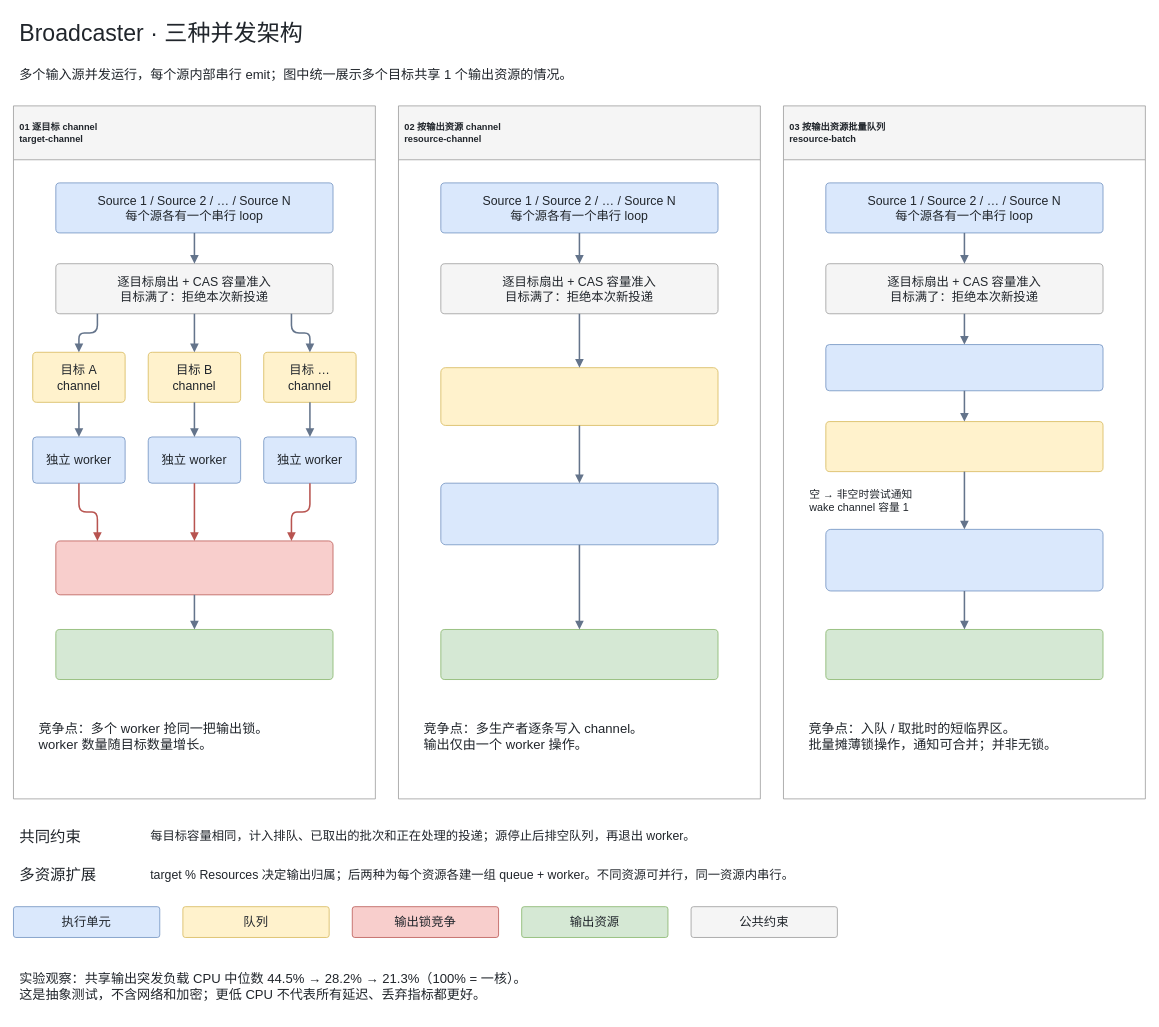
Some shapes in this 1159 by 1027 pixel diagram are drawn without their labels. Here are the shapes that lost their labels. From the top down, the centre of each, then its label:
the point at 964,367: 源内部按 resource 分组 本次 fanout 合并成一批
the point at 579,396: R0 的有界 channel 多个源逐条发送 delivery
the point at 964,446: R0 批量队列 · 短 Mutex push：持锁 append 一批后解锁
the point at 579,513: R0 唯一 worker 逐条取出 → 处理 → 归还目标额度
the point at 194,567: 同一个输出 Mutex 持锁执行完整处理
the point at 964,560: R0 唯一 worker 短暂持锁交换缓冲区，解锁后逐条处理
the point at 194,654: 共享输出资源 R0 例如抽象的串行发送出口
the point at 579,654: 独占输出资源 R0 无需应用层输出 Mutex
the point at 964,654: 独占输出资源 R0 处理完成后归还各目标额度
